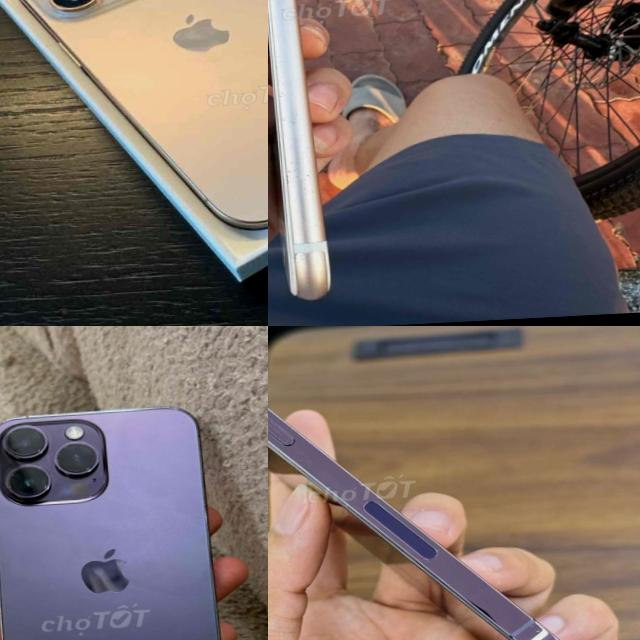gen_14: (268, 326, 585, 640), (0, 401, 235, 640)
gen_16: (21, 0, 268, 229)
gen_6: (268, 0, 351, 309)
